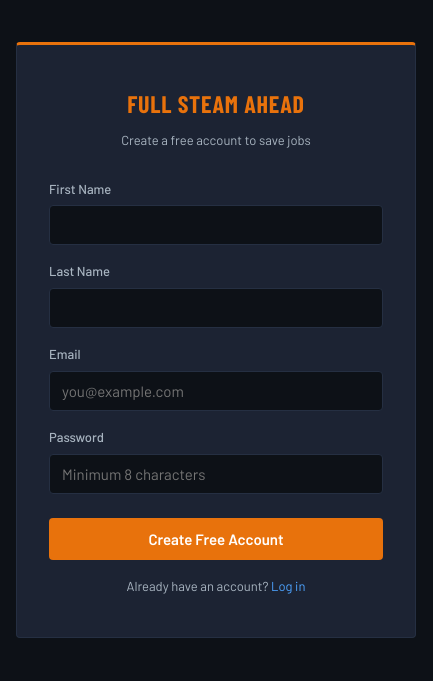
Scenario: signup and login carry next=/affiliate › the 409 message shows and the login link keeps next=/affiliate
Type "Ann" into the field labelled "First Name" at (216, 225), box [49,205,383,245]
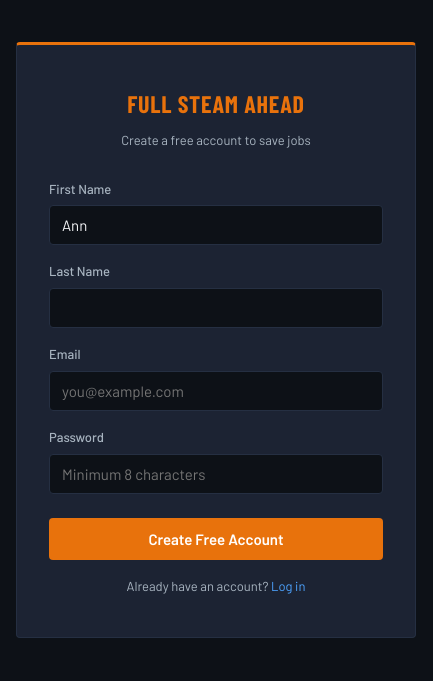
Type "Lee" into the field labelled "Last Name" at (216, 308), box [49,288,383,328]
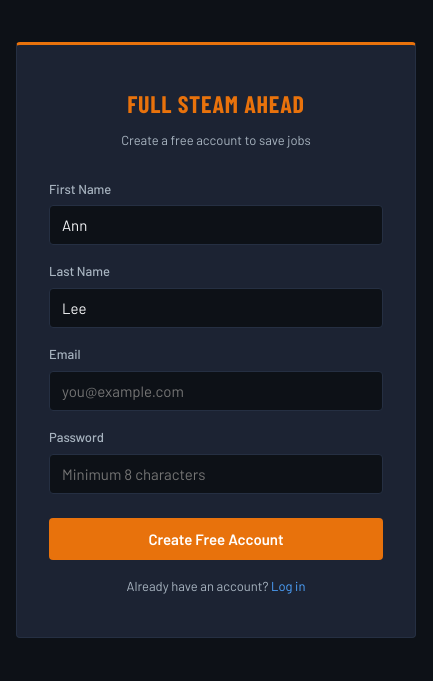
Type "ann@example.com" into the field labelled "Email" at (216, 391), box [49,371,383,411]
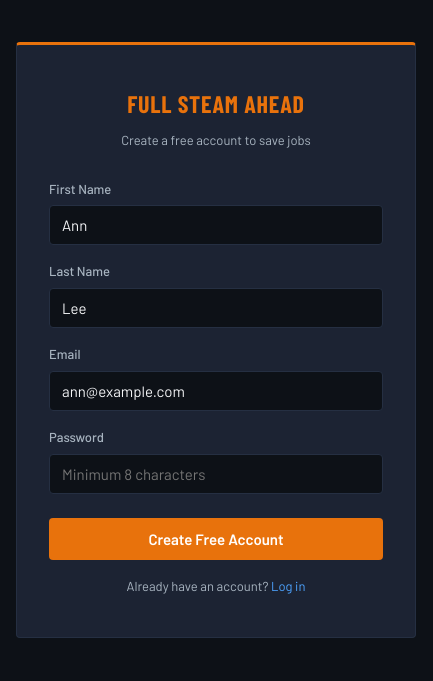
Type "password123" into the password field labelled "Password" at (216, 474), box [49,454,383,494]
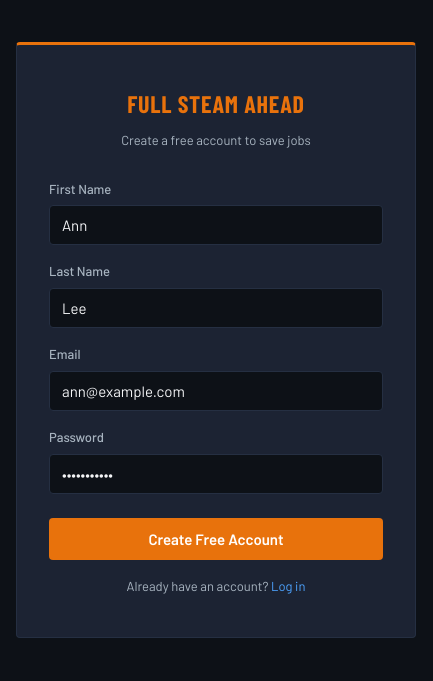
Click the button "Create Free Account" at (216, 539), box [49,518,383,560]
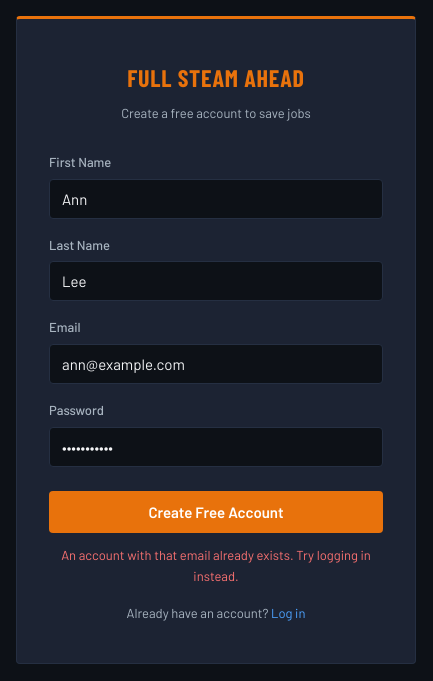
expect the text "Try logging in instead" is shown: met, box [61,547,371,584]
